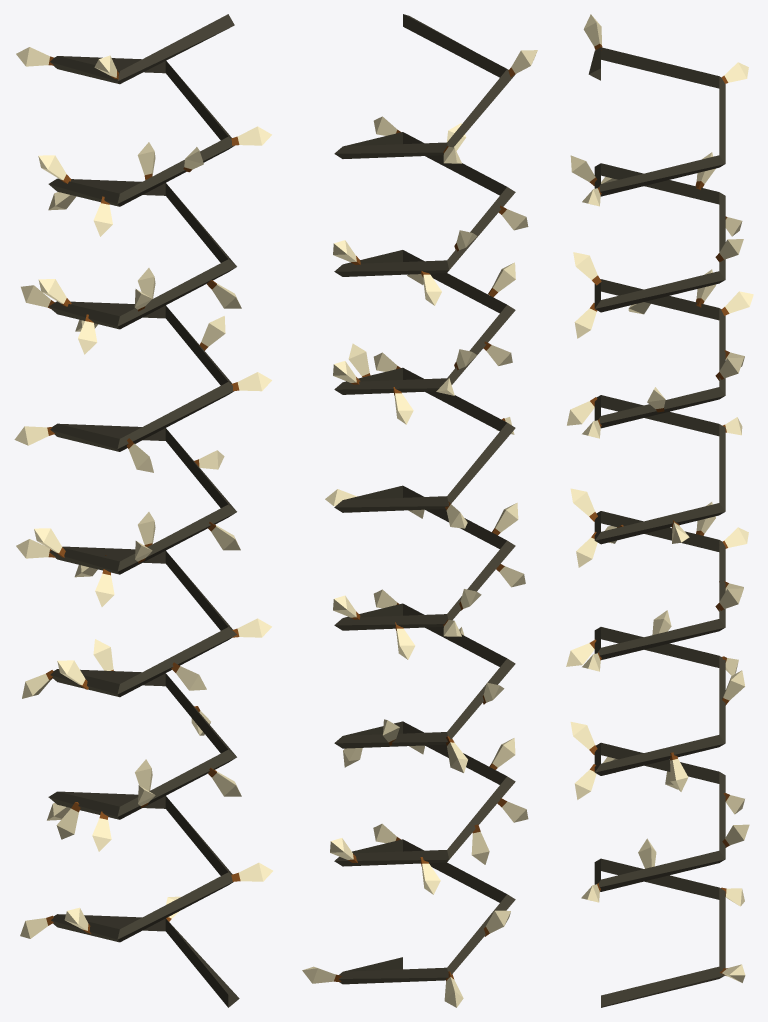
File: SM_Bld_Pillar_Lights_Icicles_01.fbx
3 views of the same model, side by side, from view 1: azimuth 30°, elevation 25°; view 2: azimuth 150°, elevation 25°; view 3: azimuth 270°, elevation 25° (orthographic). The views are drawn at different scales.
Parts seen in each view (by area): view 1: SM_Bld_Pillar_Lights_Icicles_01; view 2: SM_Bld_Pillar_Lights_Icicles_01; view 3: SM_Bld_Pillar_Lights_Icicles_01.
Part boxes in pixels (x1,y1,x2,y2): SM_Bld_Pillar_Lights_Icicles_01: [14, 14, 272, 1007]; SM_Bld_Pillar_Lights_Icicles_01: [302, 14, 537, 1007]; SM_Bld_Pillar_Lights_Icicles_01: [566, 14, 753, 1007].
Bounding box in the file's own units: 52.78 × 282 × 51.02.
